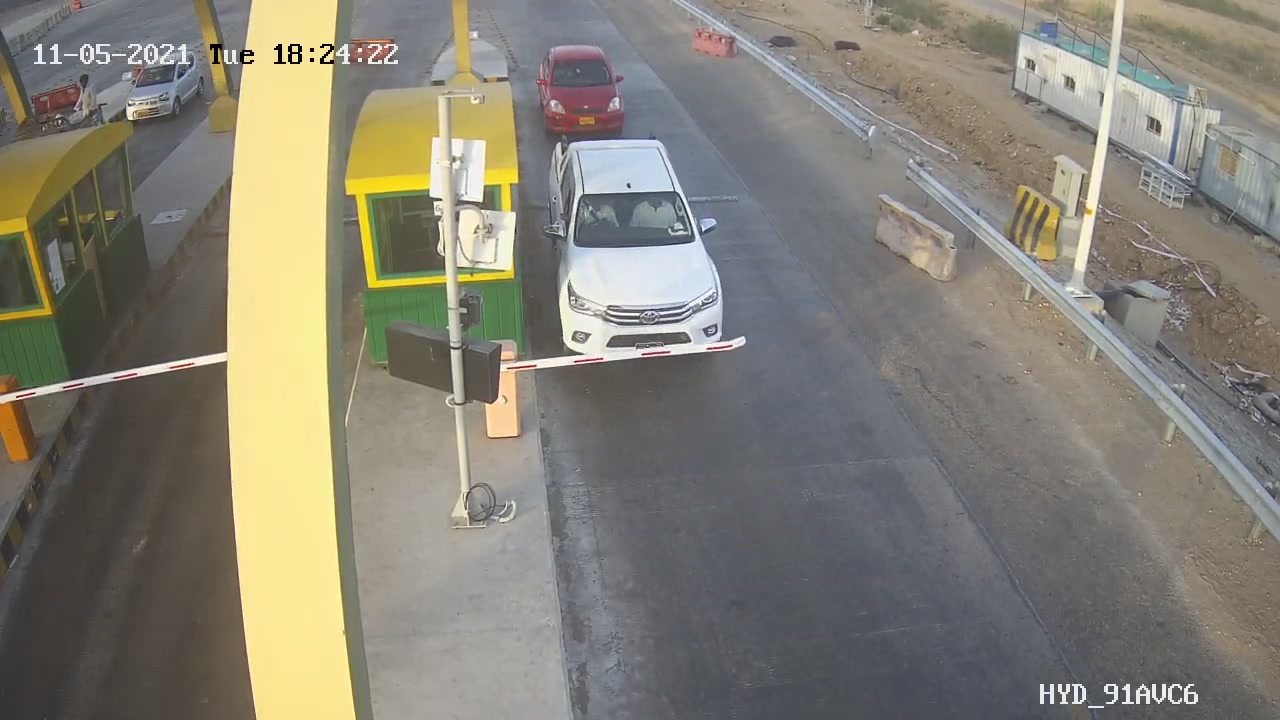F1: (530, 38, 634, 141)
